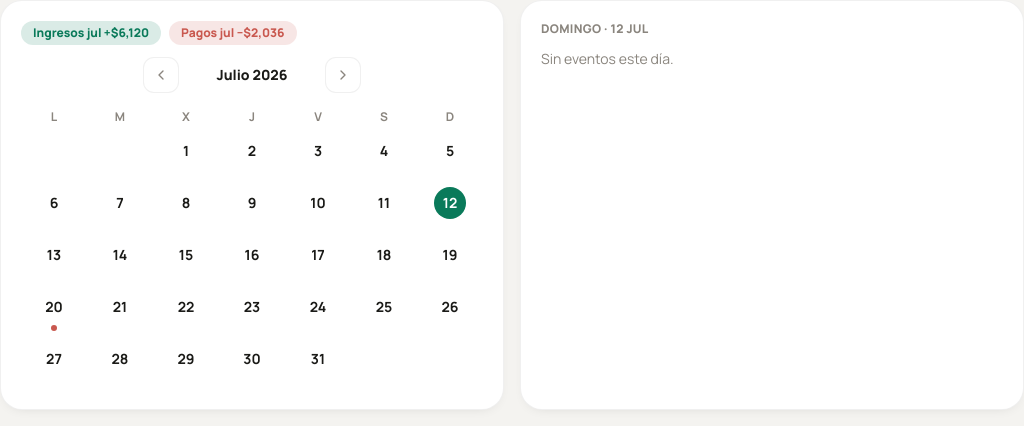
Scenario: CalendarView › PENDING en rojo y día vacío con mensaje
Click the button named "Día 20" at (54, 311), box [21,285,87,337]
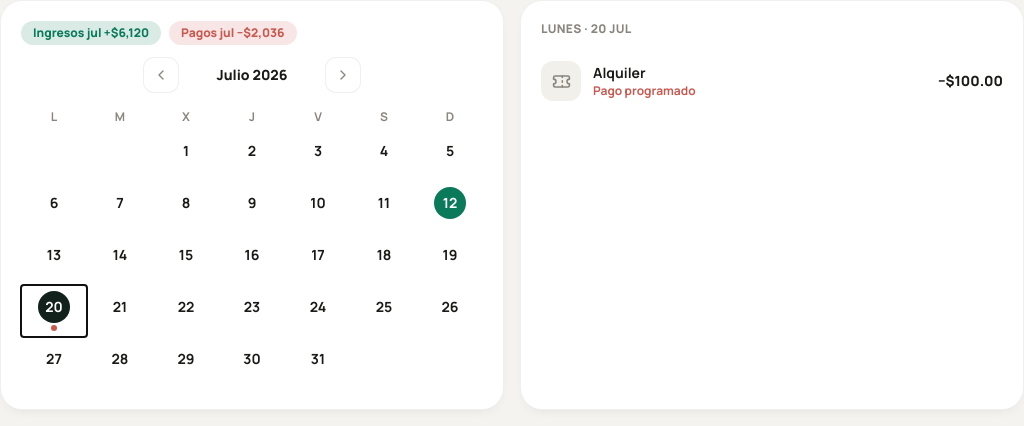
Click the button named "Día 21" at (120, 311), box [87,285,153,337]
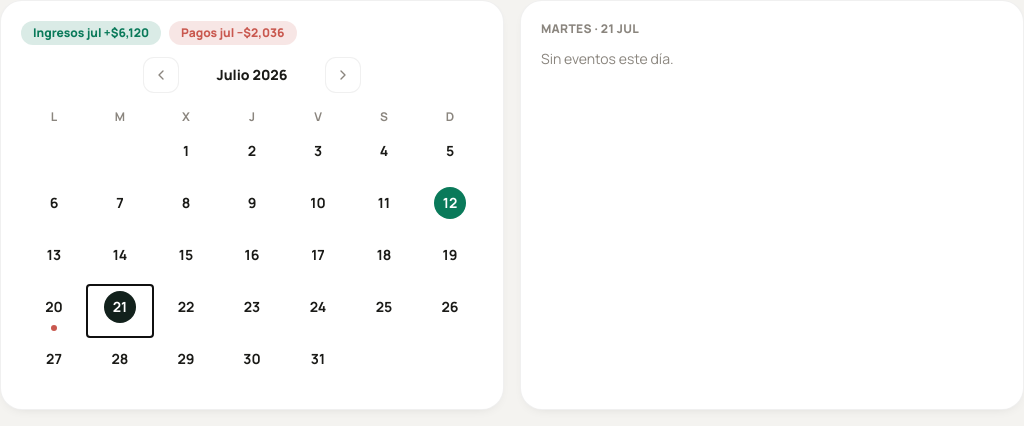
Now the text "Sin eventos este día." is shown, box [541,49,674,68]
